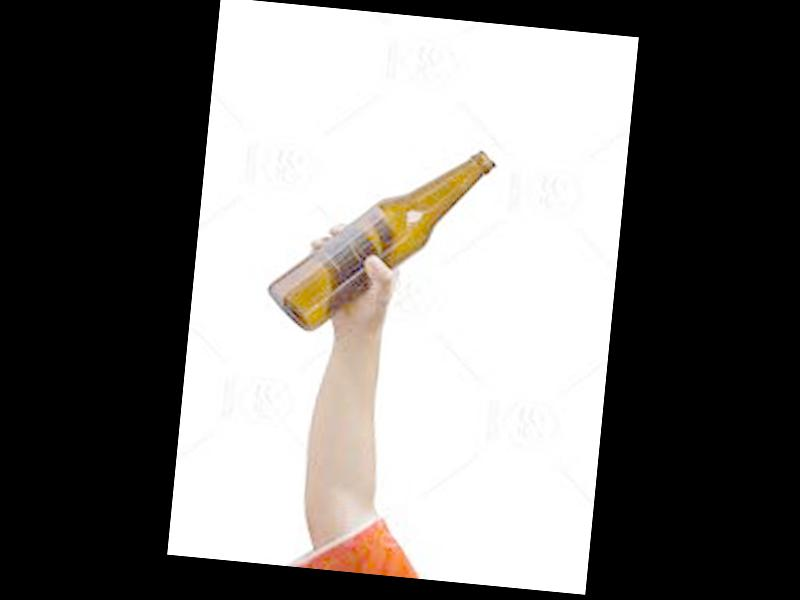Beer: (262, 132, 495, 347)
